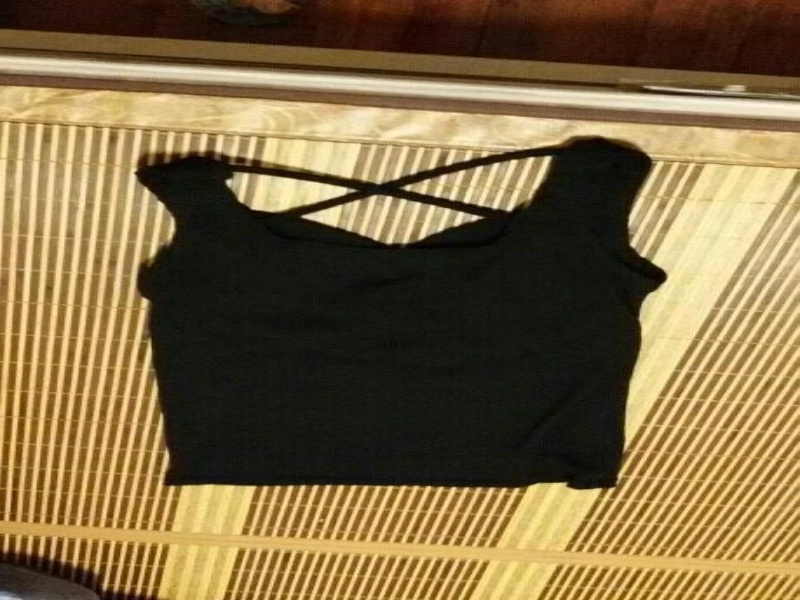vest: (129, 136, 669, 492)
